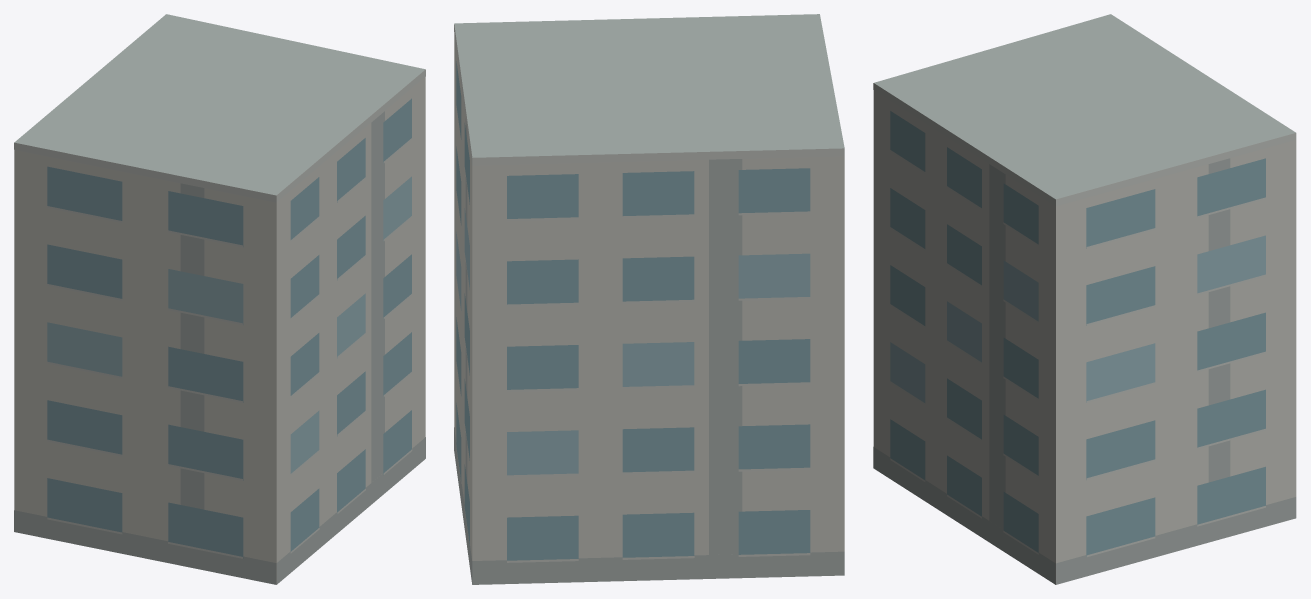
File: residential-10c8e313-366f-4a5c-bda1-180c521c2456.glb
The picture shows the model from 3 angles, left to right: view 1: azimuth 30°, elevation 25°; view 2: azimuth 150°, elevation 25°; view 3: azimuth 270°, elevation 25°; orthographic projection. The views are drawn at different scales.
Visible parts, largest first — view 1: residential-10c8e313-366f-4a5c-bda1-180c521c2456.tmp; view 2: residential-10c8e313-366f-4a5c-bda1-180c521c2456.tmp; view 3: residential-10c8e313-366f-4a5c-bda1-180c521c2456.tmp.
Boxes of the visible parts, bbox=[...] form: residential-10c8e313-366f-4a5c-bda1-180c521c2456.tmp: bbox=[14, 14, 425, 584]; residential-10c8e313-366f-4a5c-bda1-180c521c2456.tmp: bbox=[454, 14, 844, 584]; residential-10c8e313-366f-4a5c-bda1-180c521c2456.tmp: bbox=[873, 14, 1296, 584].
Size of the model in its own units: 13.68 by 13.25 by 13.18.
